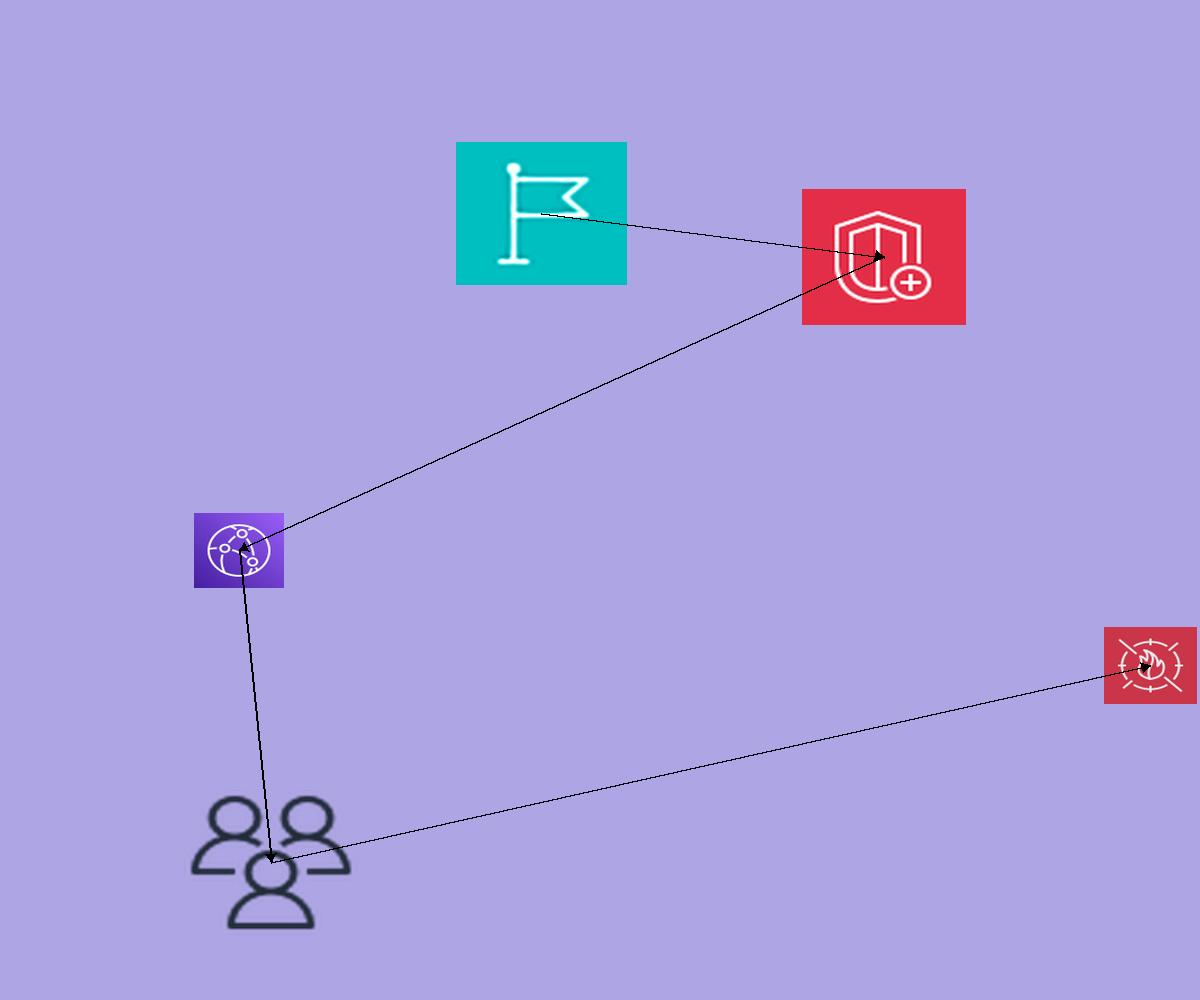AWS-CloudFront: (194, 513, 284, 588)
AWS-Region: (456, 142, 627, 285)
AWS-Res_Users: (184, 790, 358, 935)
AWS-Shield: (802, 189, 966, 325)
AWS-WAF: (1104, 627, 1197, 704)
